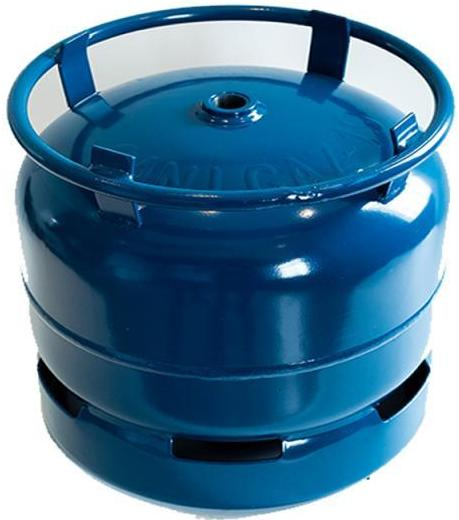cylinder: (1, 0, 459, 520)
